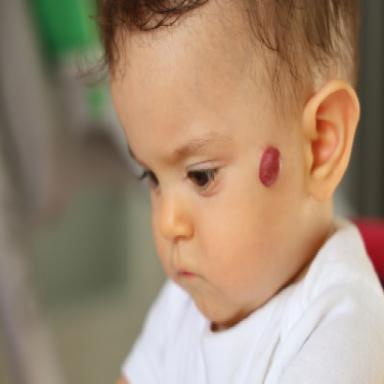Hemangiome: (259, 147, 281, 187)
